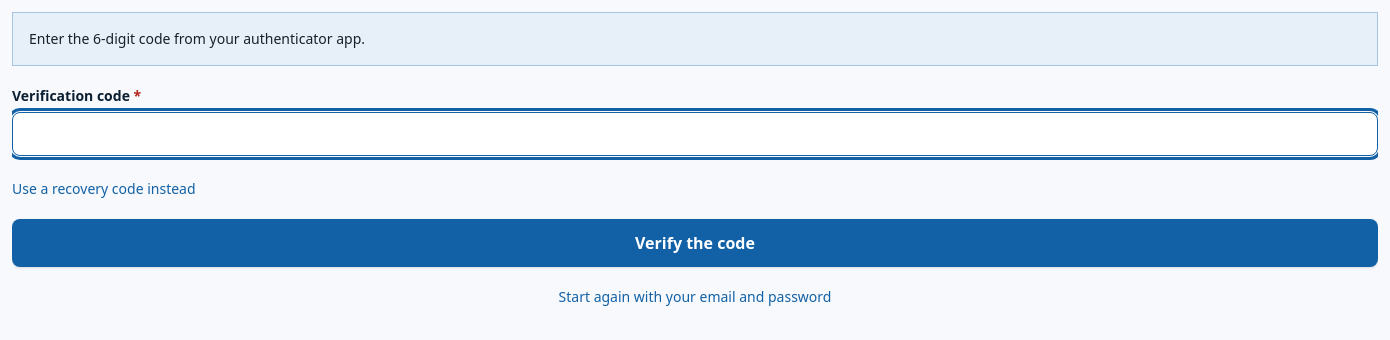
Test case: LoginForm two-step verification › offers the password again when the code step has expired
The image size is (1390, 340).
Click the button "Start again with your email and password" at (695, 297), box [559,287,832,307]
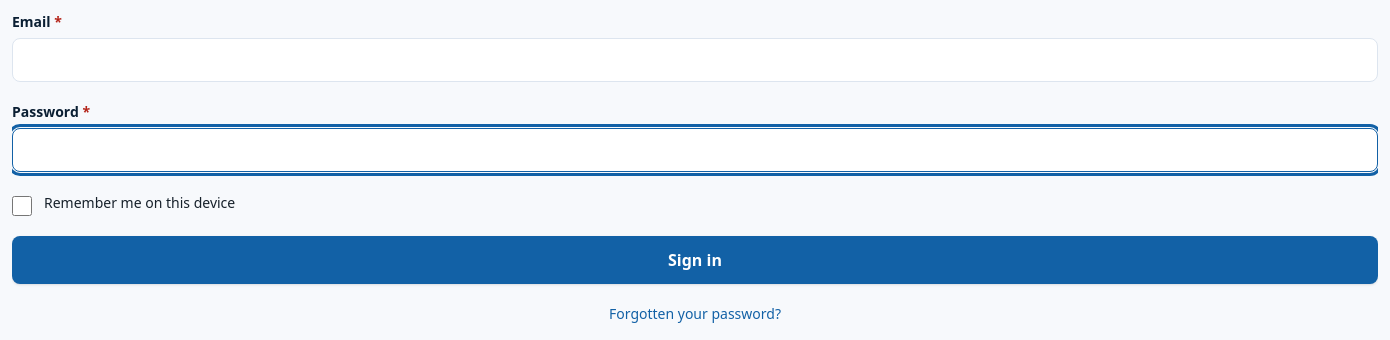
Expected: the password field labelled "Password *" is shown, [12,128,1378,172]
Expected: the label labelled "Verification code" is gone
